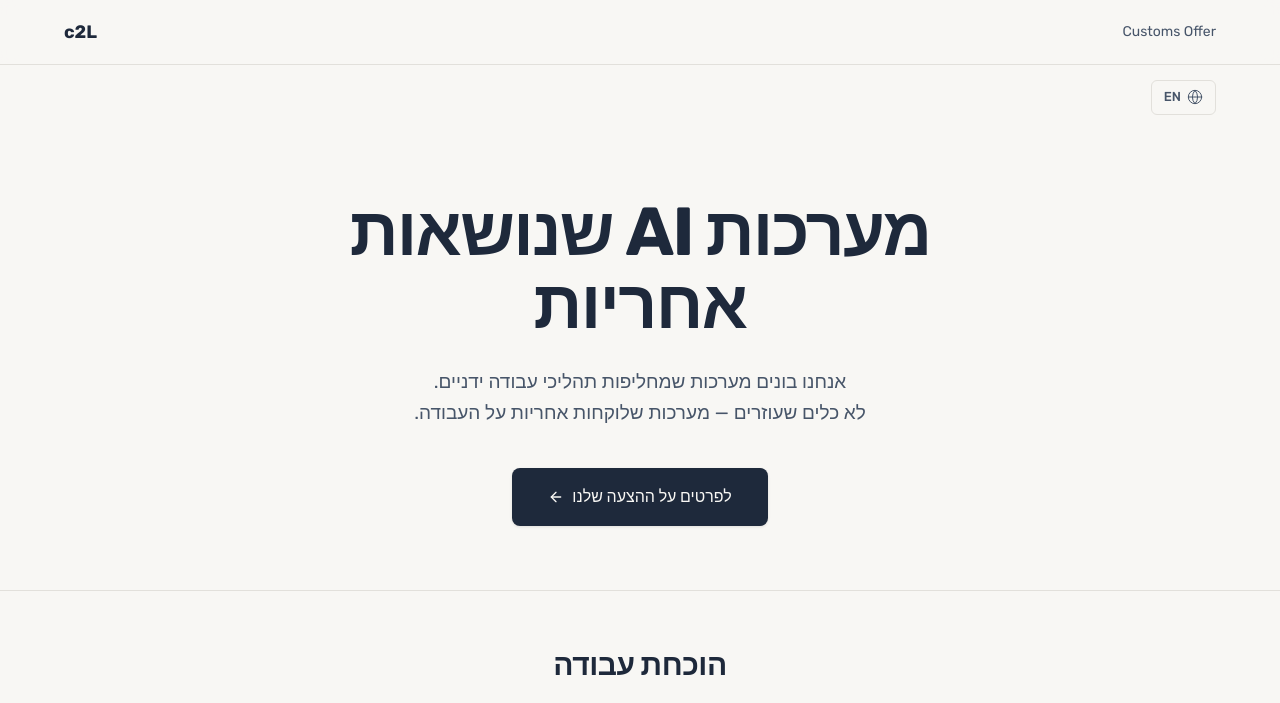
Test: HomePage › toggles back to Hebrew
Step 1. Click the button with aria-label "switch to english" → (1183, 97), box [1151, 80, 1216, 115]
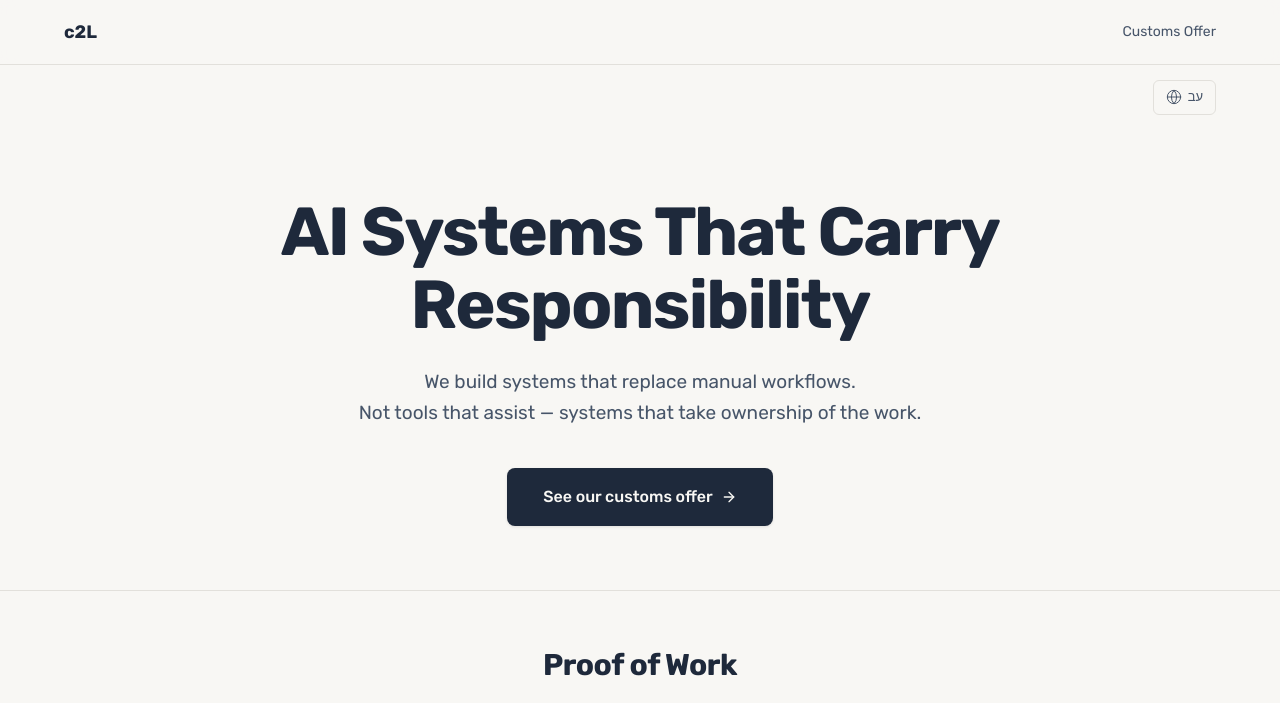
Step 2. Click the button with aria-label "החלף לעברית" → (1184, 97), box [1153, 80, 1216, 115]
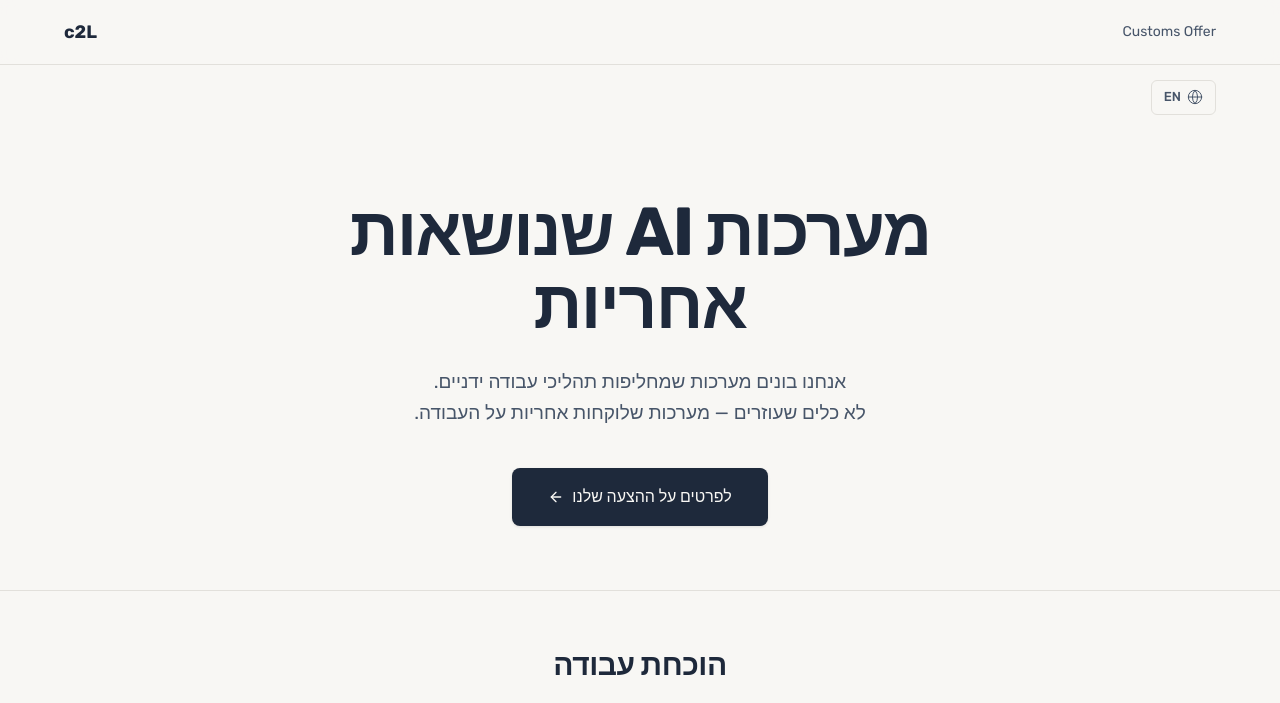
Now the heading "מערכות AI שנושאות אחריות" is shown, box [350, 191, 930, 345]
